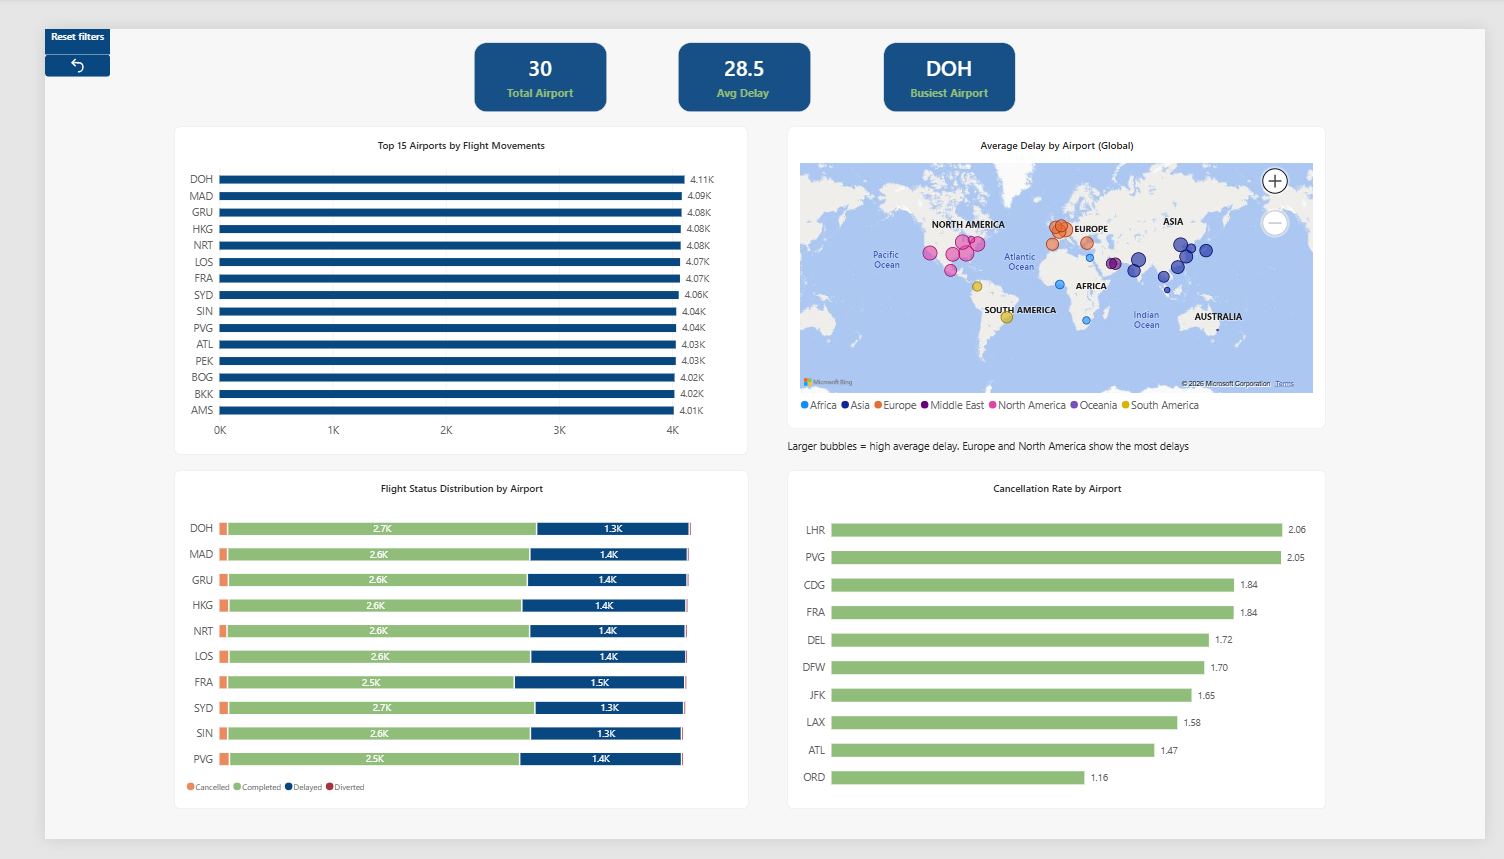

Layout of this report page (visuals, bound fields, positions):
{"tool":"powerbi","page":{"name":"Airport Performance","canvas":[1920,1080],"ordinal":4},"visuals":[{"type":"barChart","title":"Top 15 Airports by Flight Movements","fields":{"Category":["airports.iata_code"],"Y":["Measure Table.Total Movements"]},"box":[171.2,130,765,437.5],"z":0},{"type":"map","title":"Average Delay by Airport (Global)","fields":{"Series":["airports.region"],"Size":["Measure Table.Avg Delay (Origin+Dest)"],"X":["airports.lon"],"Y":["airports.lat"]},"box":[990,130,717.5,402.5],"z":1000},{"type":"barChart","title":"Flight Status Distribution by Airport","fields":{"Category":["airports.iata_code"],"Series":["flights.status"],"Y":["Measure Table.Total Movements"]},"box":[172,588,766,452],"z":2000},{"type":"barChart","title":"Cancellation Rate by Airport","fields":{"Category":["airports.iata_code"],"Y":["Measure Table.Cancelation_Rate_Pct"]},"box":[990,588,718,452],"z":3000},{"type":"textbox","box":[990,546.5,717.5,27.5],"z":4000},{"type":"card","fields":{"Values":["CountNonNull(airports.airport_id)"]},"box":[572.9,17.1,177.1,92.9],"z":5000},{"type":"card","fields":{"Values":["Min(airports.iata_code)"]},"box":[1117.1,17.1,175.7,92.9],"z":6000},{"type":"card","fields":{"Values":["Measure Table.Avg Delay (Origin+Dest)"]},"box":[844.8,17.1,177.5,92.5],"z":7000},{"type":"shape","box":[0,0,178.6,1080],"z":8000},{"type":"actionButton","title":"Reset filters","box":[2,0,175,65],"z":9000},{"type":"pageNavigator","box":[10,860,158,200],"z":10000}]}

Visuals, with their boxes in screenshot pixels (x1, y1, x2, y2), scaled from the page's 1920x1080 canvas onto the 1504x859 screenshot:
"Top 15 Airports by Flight Movements" barChart: x1=134 y1=103 x2=733 y2=451
"Average Delay by Airport (Global)" map: x1=776 y1=103 x2=1338 y2=424
"Flight Status Distribution by Airport" barChart: x1=135 y1=468 x2=735 y2=827
"Cancellation Rate by Airport" barChart: x1=776 y1=468 x2=1338 y2=827
textbox: x1=776 y1=435 x2=1338 y2=457
card - CountNonNull(airports.airport_id): x1=449 y1=14 x2=588 y2=87
card - Min(airports.iata_code): x1=875 y1=14 x2=1013 y2=87
card - Measure Table.Avg Delay (Origin+Dest): x1=662 y1=14 x2=801 y2=87
shape: x1=0 y1=0 x2=140 y2=858
"Reset filters" actionButton: x1=2 y1=0 x2=139 y2=52
pageNavigator: x1=8 y1=684 x2=132 y2=843
